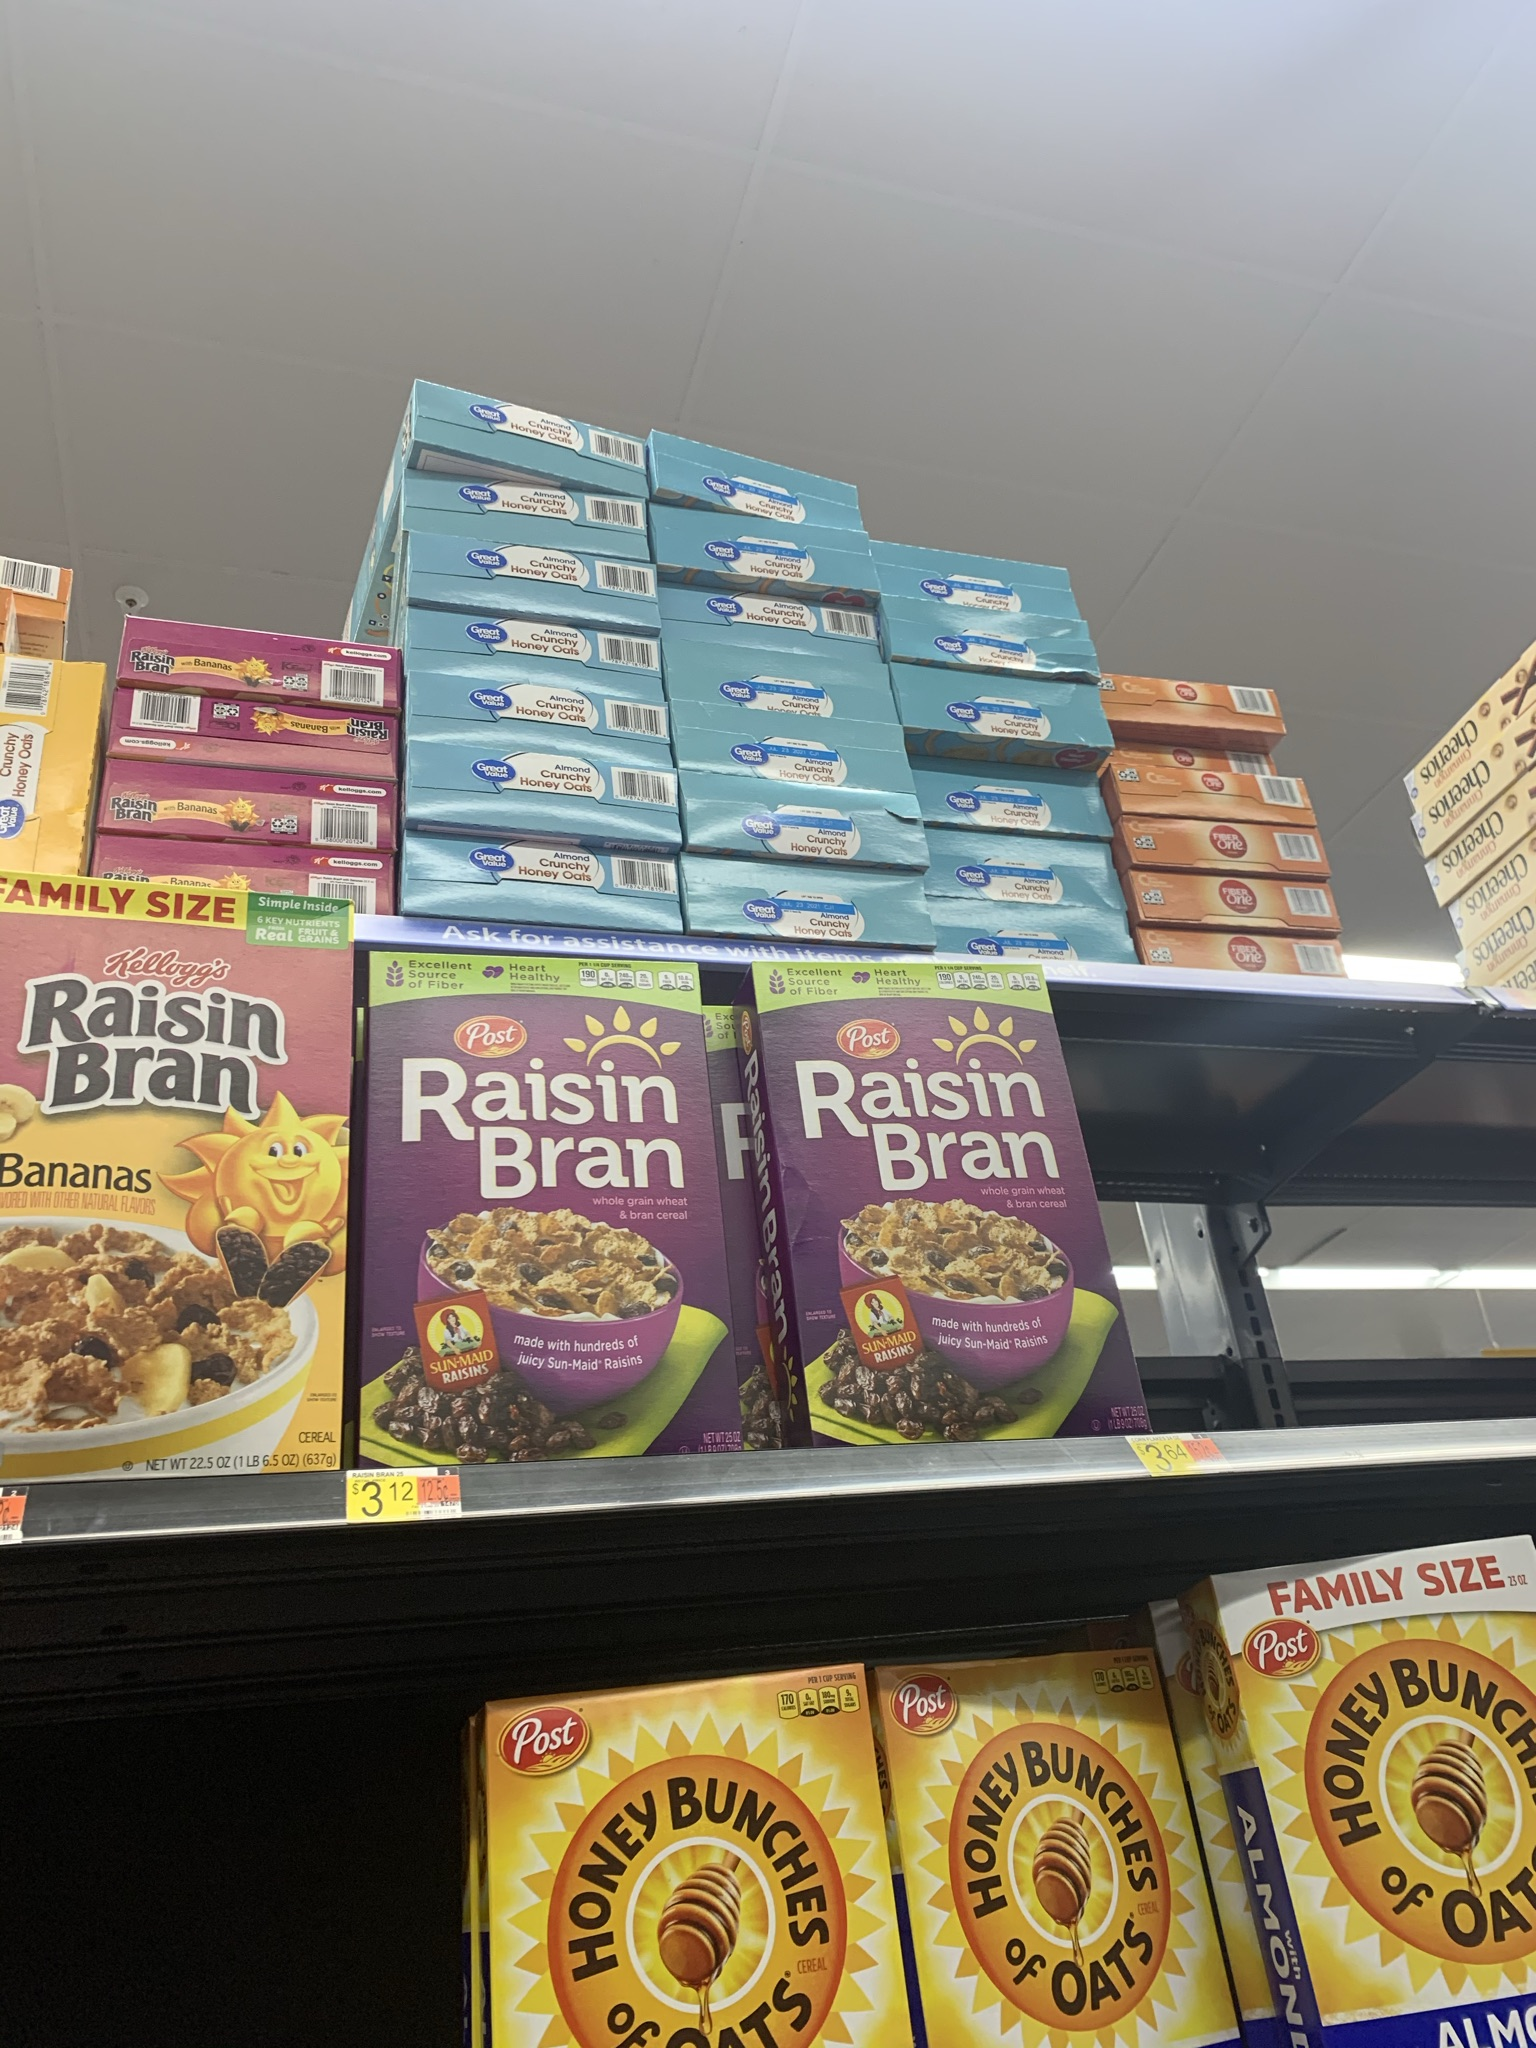cereal: (376, 961, 758, 1450), (750, 963, 1142, 1438), (2, 939, 357, 1455)
